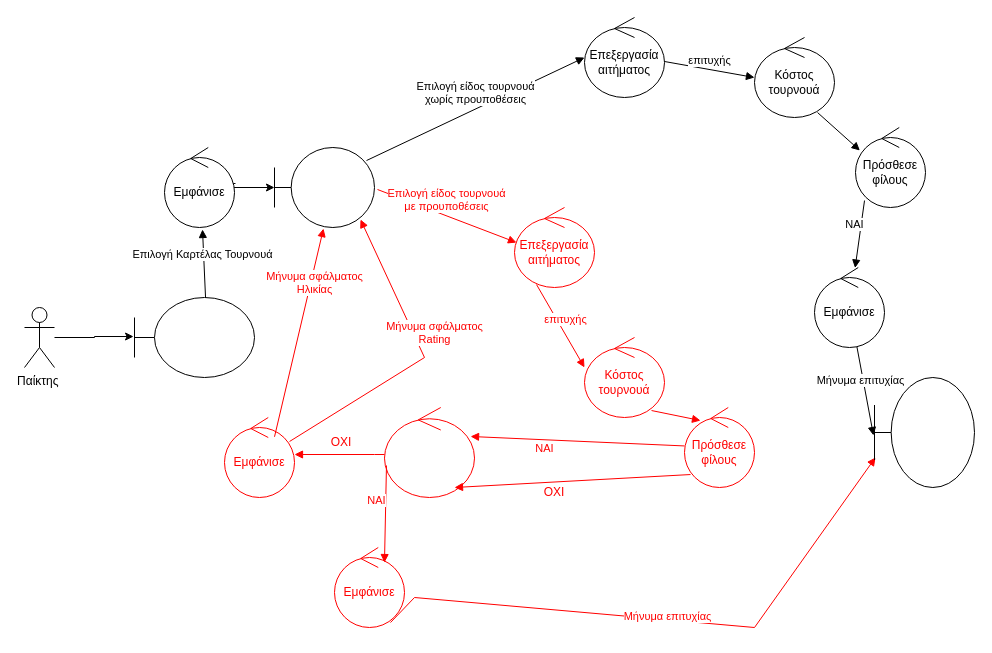
Some shapes in this 992 by 653 pixel diagram are drawn without their labels. The shapes that lost their labels are listed below. From the top down, each one's centre as x and y in pixels, then its label:
At pixel 324 187: "Οθόνη Τουρνουά".
At pixel 194 337: "Αρχικό Μενού".
At pixel 429 452: "Τηρεί τις προυποθέσεις;".
At pixel 924 432: "Οθόνη Πληρωμής".
